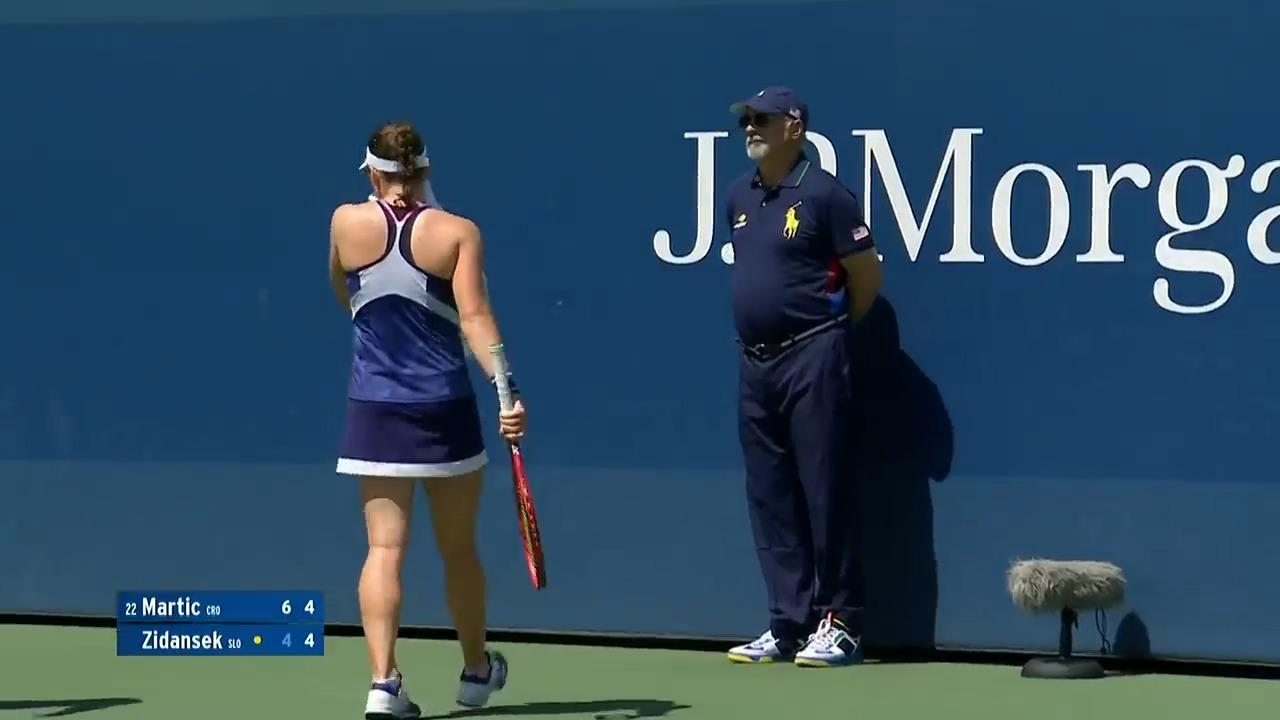tennis racket: (510, 442, 548, 589), (490, 342, 515, 412)
